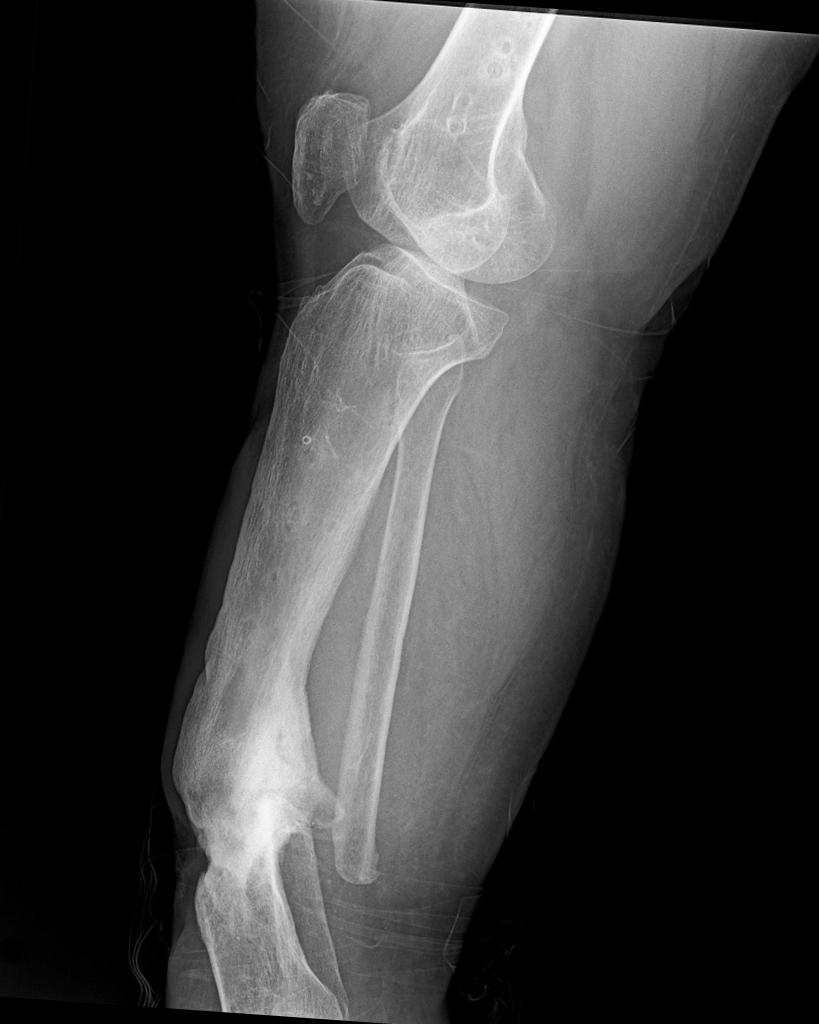messed_up_angle: (151, 752, 398, 944)
